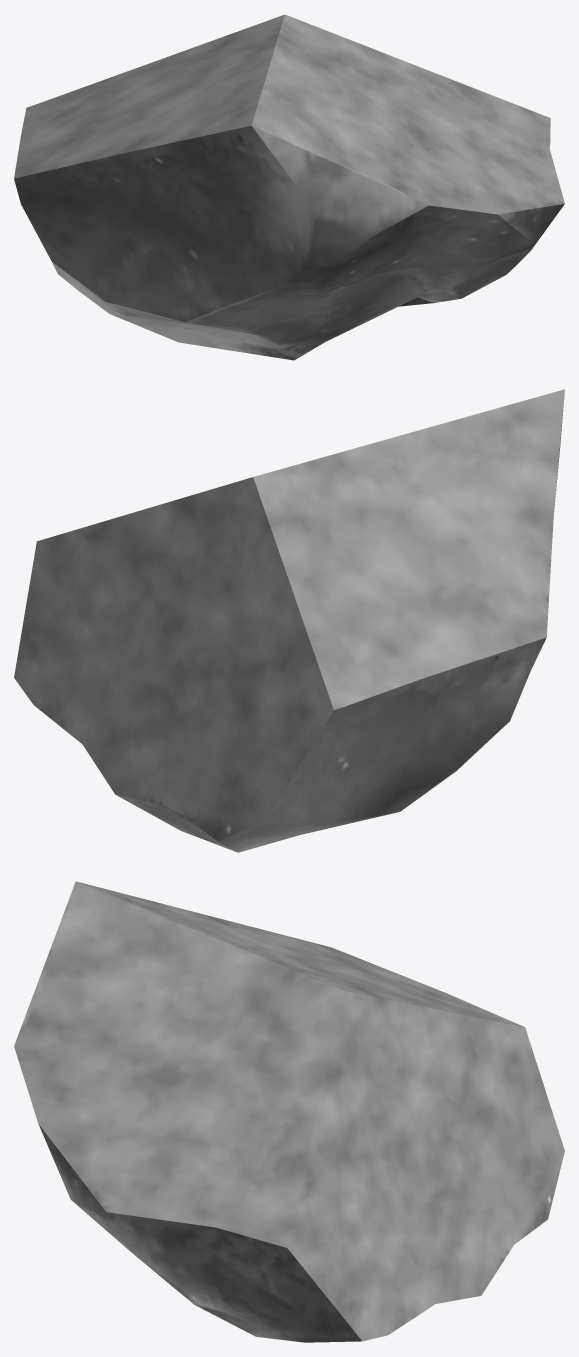
File: frag_03.glb
The picture shows the model from 3 angles, top to bottom: view 1: azimuth 30°, elevation 25°; view 2: azimuth 150°, elevation 25°; view 3: azimuth 270°, elevation 25°; orthographic projection. The views are drawn at different scales.
Visible parts, largest first — view 1: frag_03; view 2: frag_03; view 3: frag_03.
Boxes of the visible parts, box(x1,y1,x2,y2) form: frag_03: box(14, 14, 564, 360); frag_03: box(14, 389, 564, 852); frag_03: box(14, 881, 564, 1342).
Size of the model in its own units: 1.83 by 1.11 by 1.69.
Materials: 1 (1 with a texture image).
